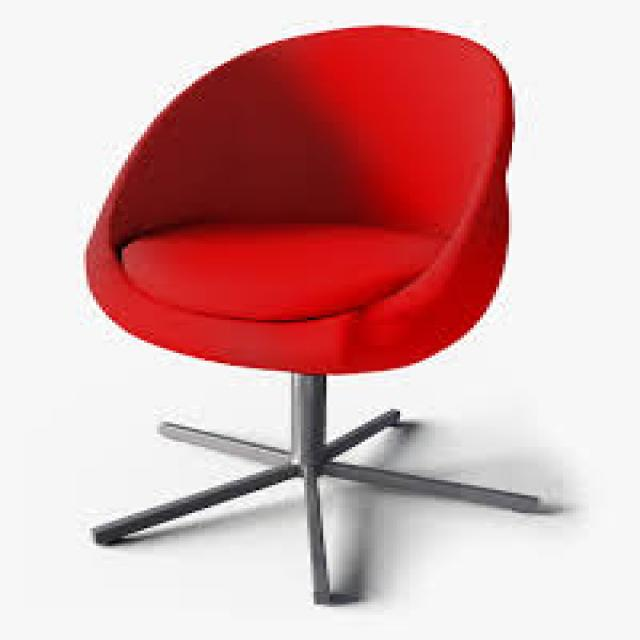chair: (83, 22, 540, 604)
